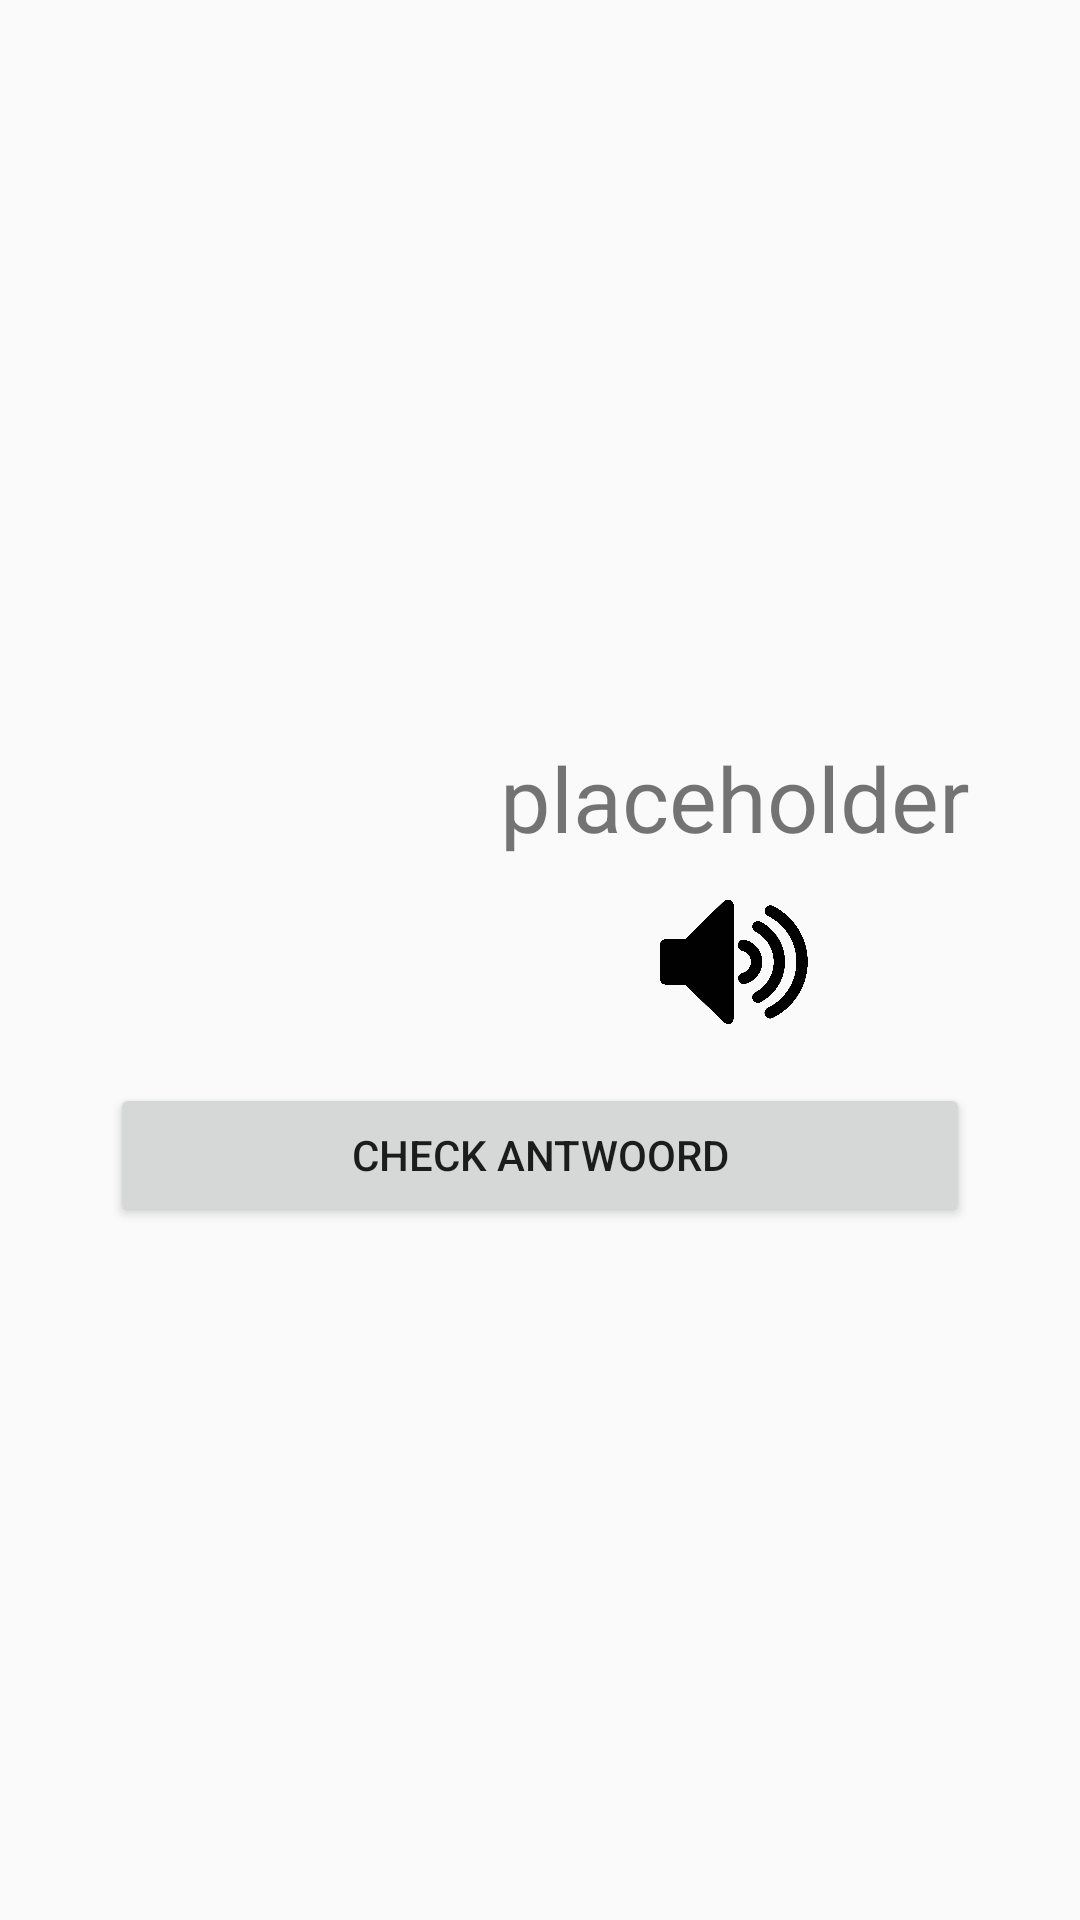

Icon click points for this 1080px×1920px phone screenshot, format (x=x, y=y):
audioicon: (x=734, y=962)
